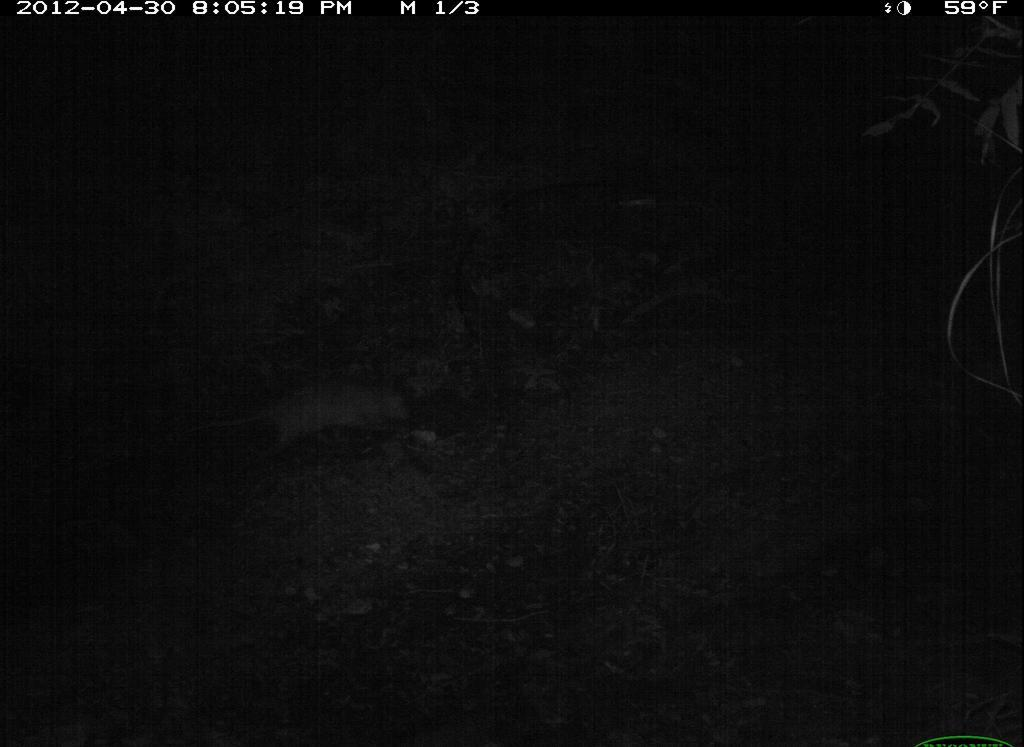opossum: (143, 367, 449, 472)
